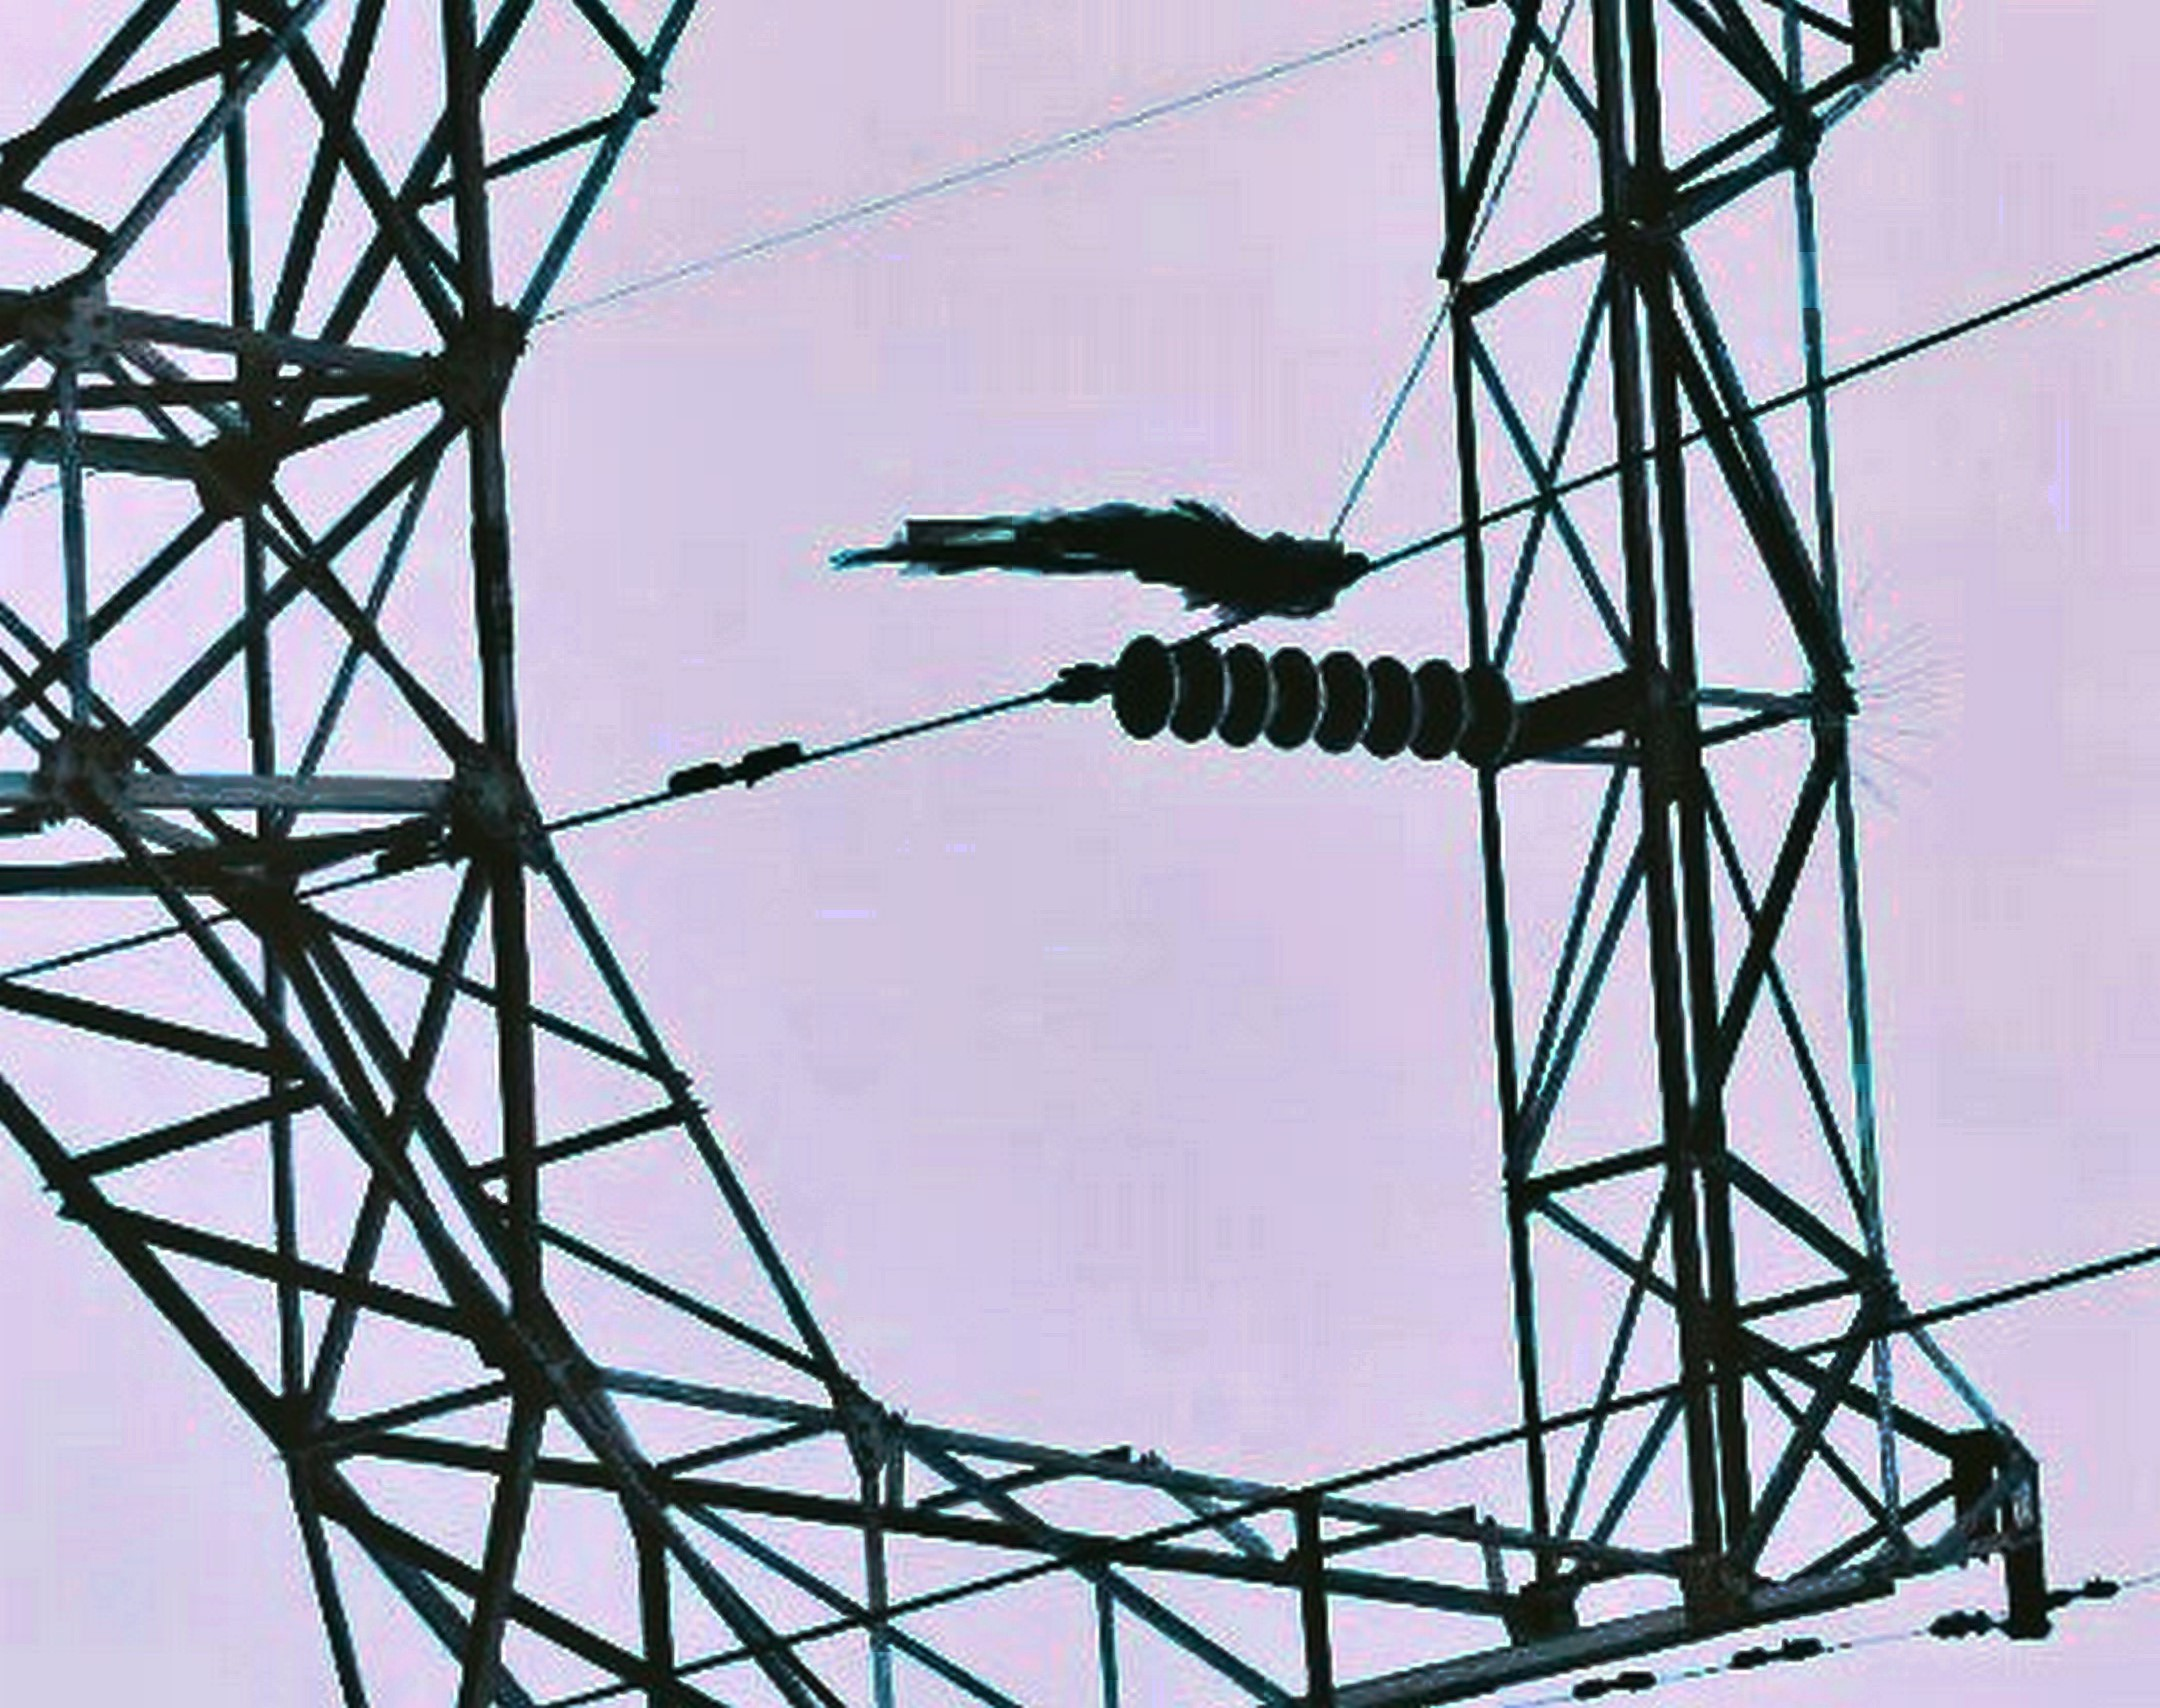wire foreign body: (836, 452, 1397, 644)
